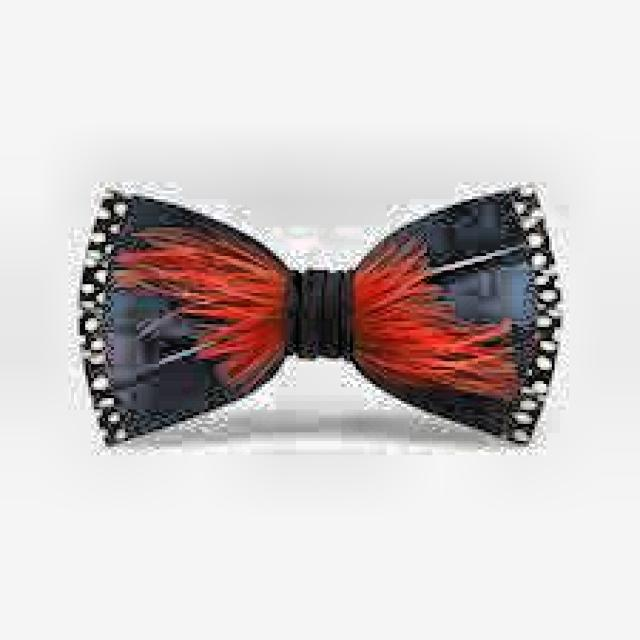Tie: (74, 182, 563, 447)
